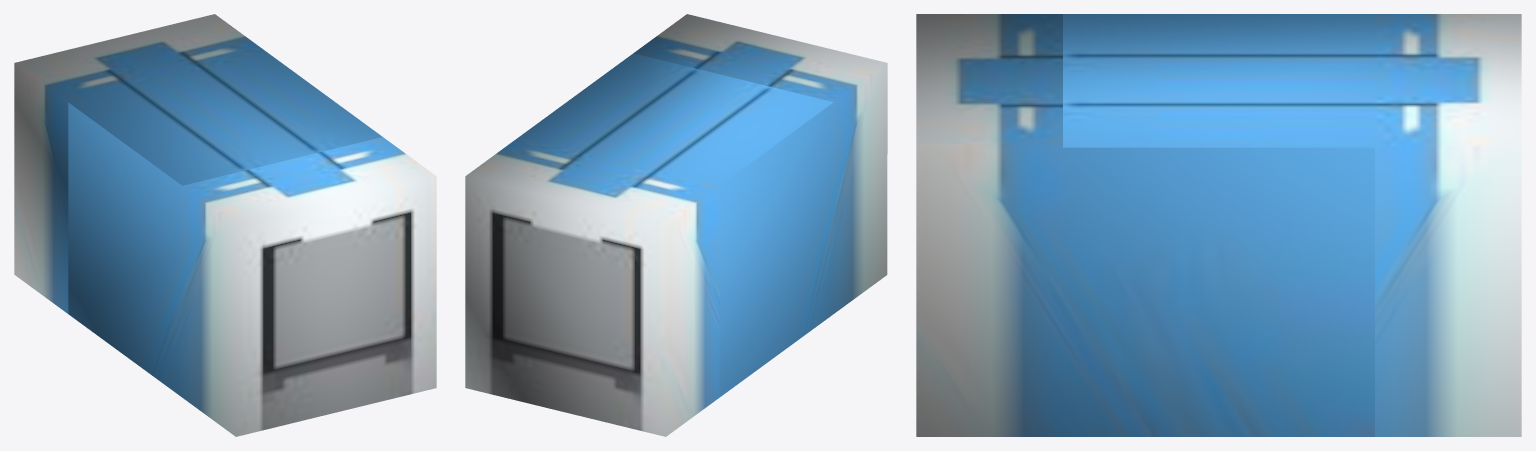
3 views of the same model, side by side, from view 1: azimuth 30°, elevation 25°; view 2: azimuth 150°, elevation 25°; view 3: azimuth 270°, elevation 25° (orthographic). The views are drawn at different scales.
Visible parts, largest first — view 1: inserter-3-lod2; view 2: inserter-3-lod2; view 3: inserter-3-lod2.
Boxes of the visible parts, x1,y1,x2,y2 form: inserter-3-lod2: [14, 14, 436, 436]; inserter-3-lod2: [465, 14, 887, 436]; inserter-3-lod2: [916, 14, 1521, 436].
Size of the model in its own units: 0.99 by 1 by 1.9.
2 materials, 2 textured.
